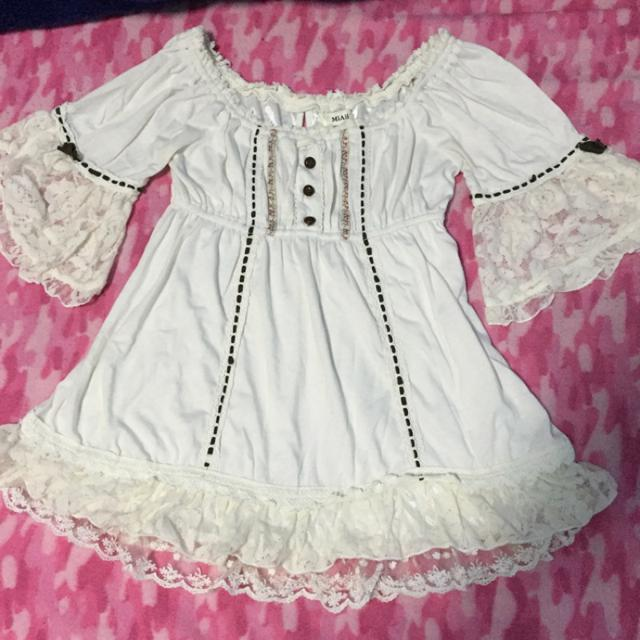Dresses: (1, 30, 640, 609)
